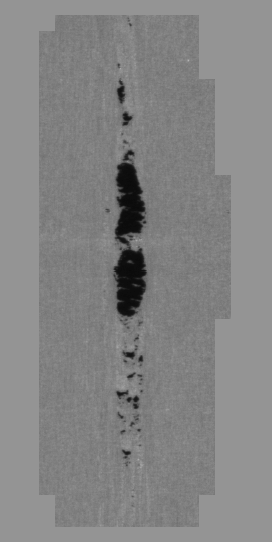oxl: (35, 10, 237, 532)
